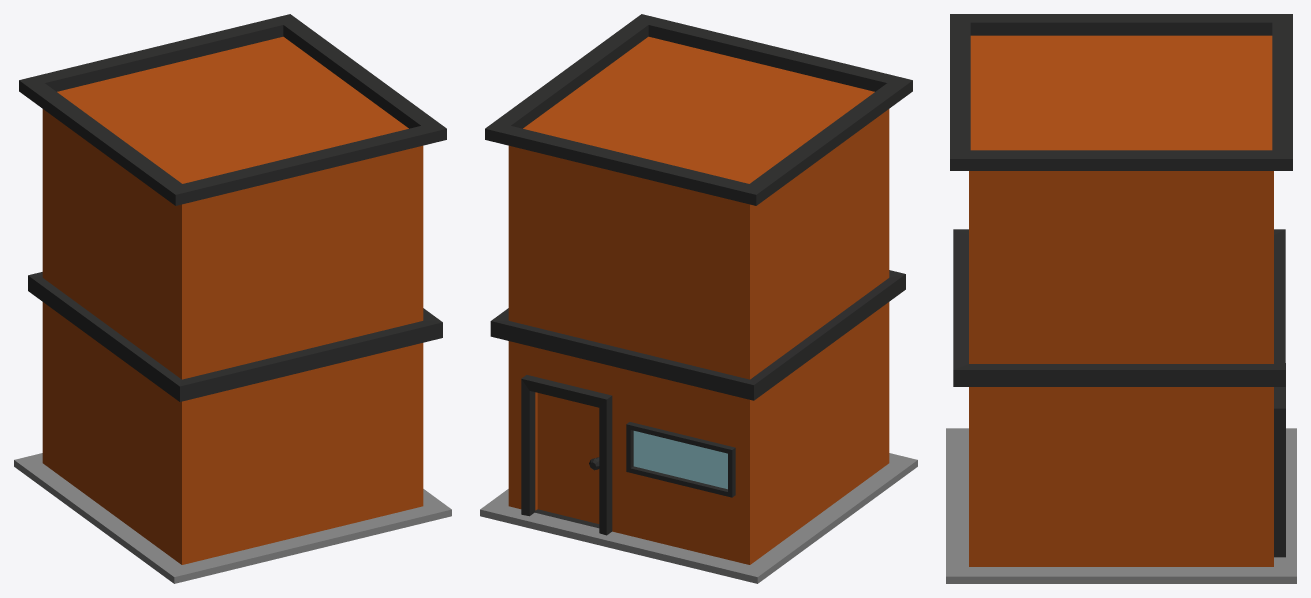
File: Building1.glb
The picture shows the model from 3 angles, left to right: view 1: azimuth 30°, elevation 25°; view 2: azimuth 150°, elevation 25°; view 3: azimuth 270°, elevation 25°; orthographic projection. The views are drawn at different scales.
Parts seen in each view (by area): view 1: Building-col; view 2: Building-col; view 3: Building-col.
Boxes of the visible parts, x1=… form: Building-col: x1=14, y1=14, x2=451, y2=583; Building-col: x1=480, y1=14, x2=917, y2=583; Building-col: x1=946, y1=14, x2=1296, y2=583.
Bounding box in the file's own units: 0.647 × 0.8619 × 0.647.
